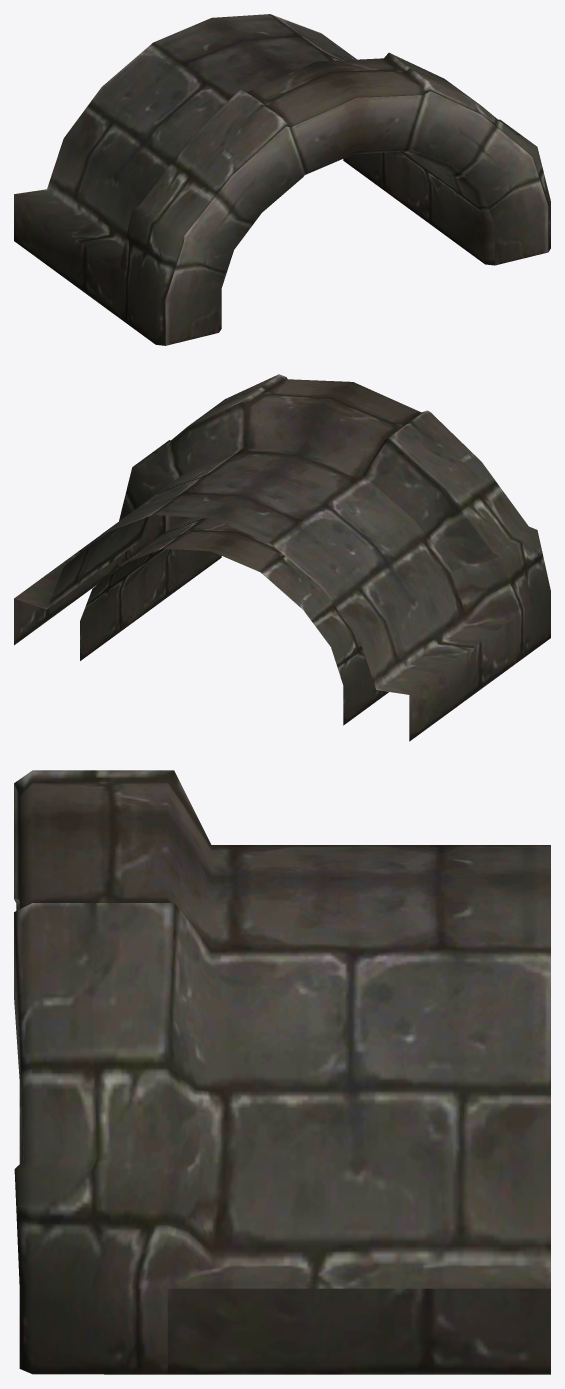
Rendered from h5_building_07.FBX.
The picture shows the model from 3 angles, top to bottom: view 1: azimuth 30°, elevation 25°; view 2: azimuth 150°, elevation 25°; view 3: azimuth 270°, elevation 25°; orthographic projection. The views are drawn at different scales.
Visible parts, largest first — view 1: h5_building_07; view 2: h5_building_07; view 3: h5_building_07.
Part boxes in pixels (x1,y1,x2,y2): h5_building_07: (14,14,550,345); h5_building_07: (14,374,550,741); h5_building_07: (14,770,550,1374).
Bounding box in the file's own units: 13.67 × 6.88 × 8.8.
Materials: 1 (1 with a texture image).
